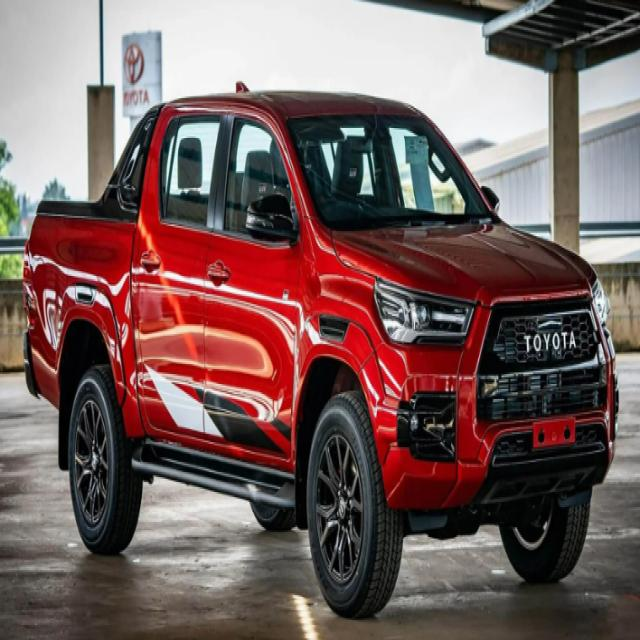Pickup truck: (2, 75, 634, 572)
